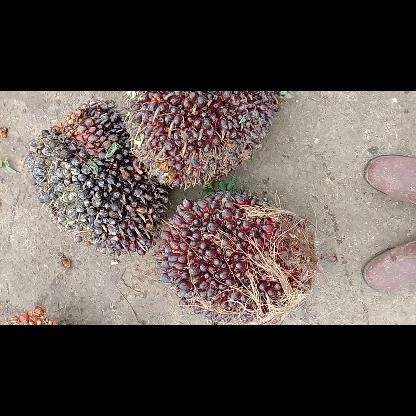Kurang masak: (156, 190, 315, 324), (127, 90, 280, 186)
TBS mentah: (26, 100, 168, 254)
